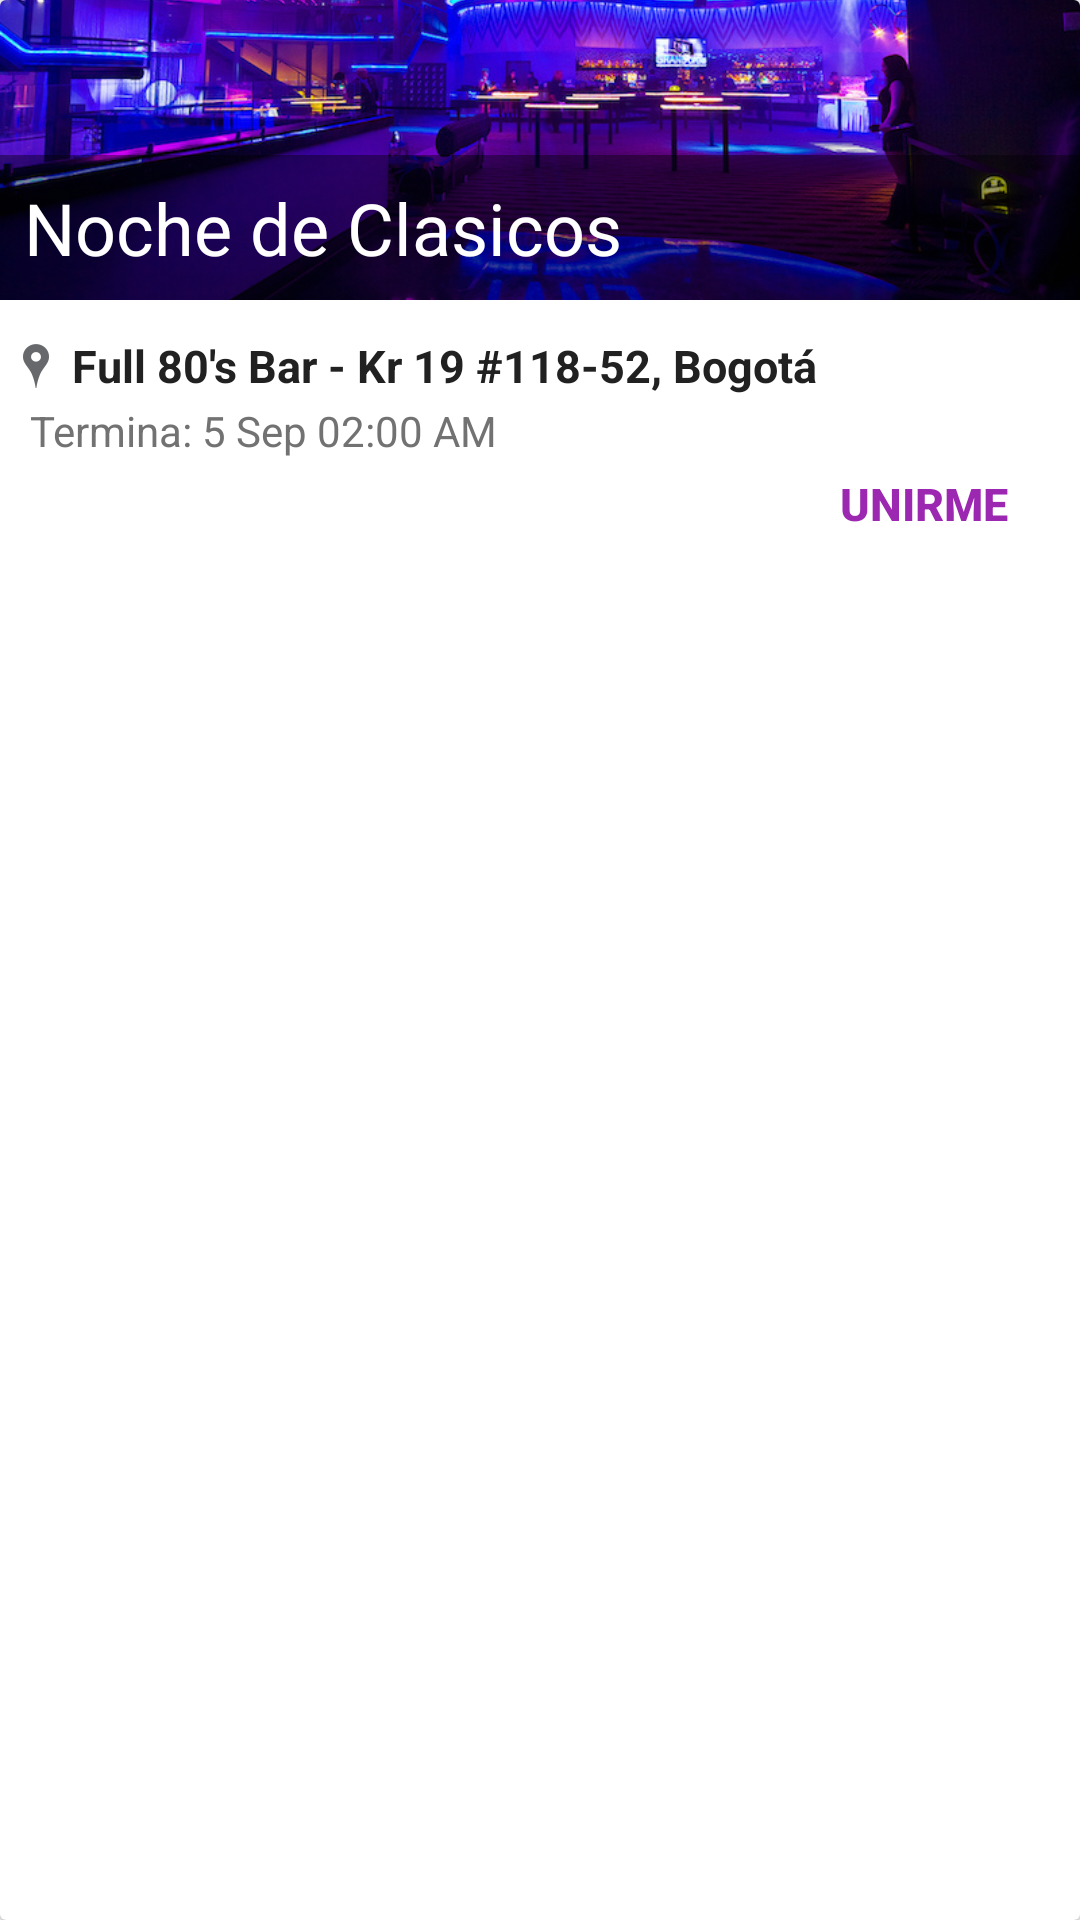

Screen size 1080px×1920px. Icon name, then its box in pixels as [x1,y1,x2,y2]:
place: [23,344,49,388]
